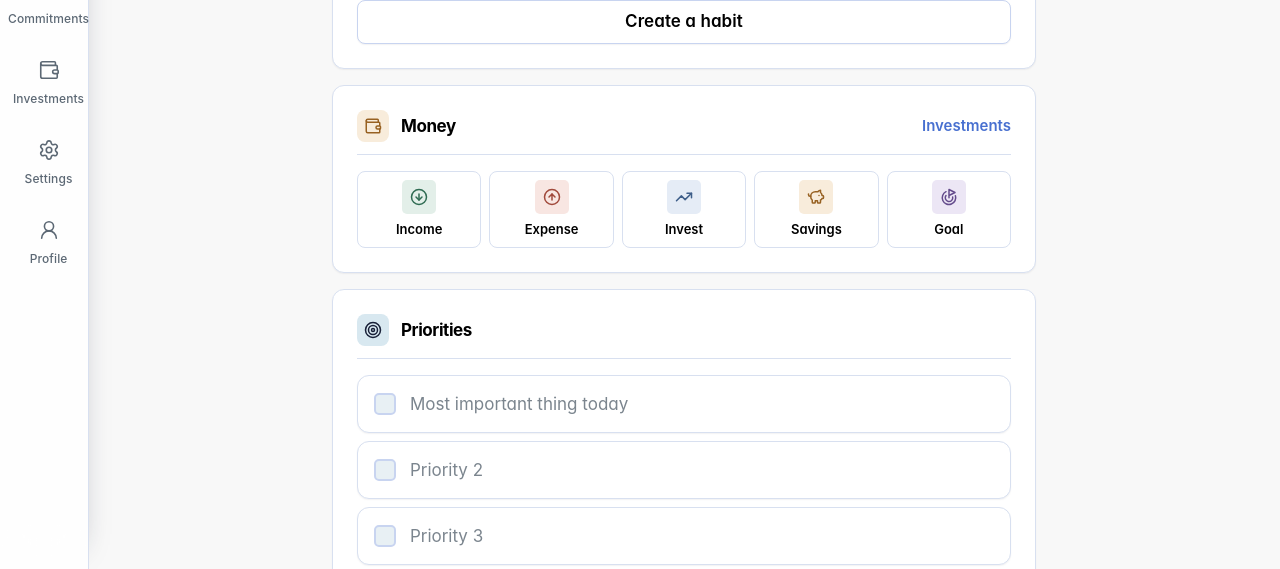
Scenario: Money across the app › shows this month’s money on Today and records income from a quick action
(page scrolled)
Click the button named "Add Income" at x=419, y=210, box [357,171,481,248]
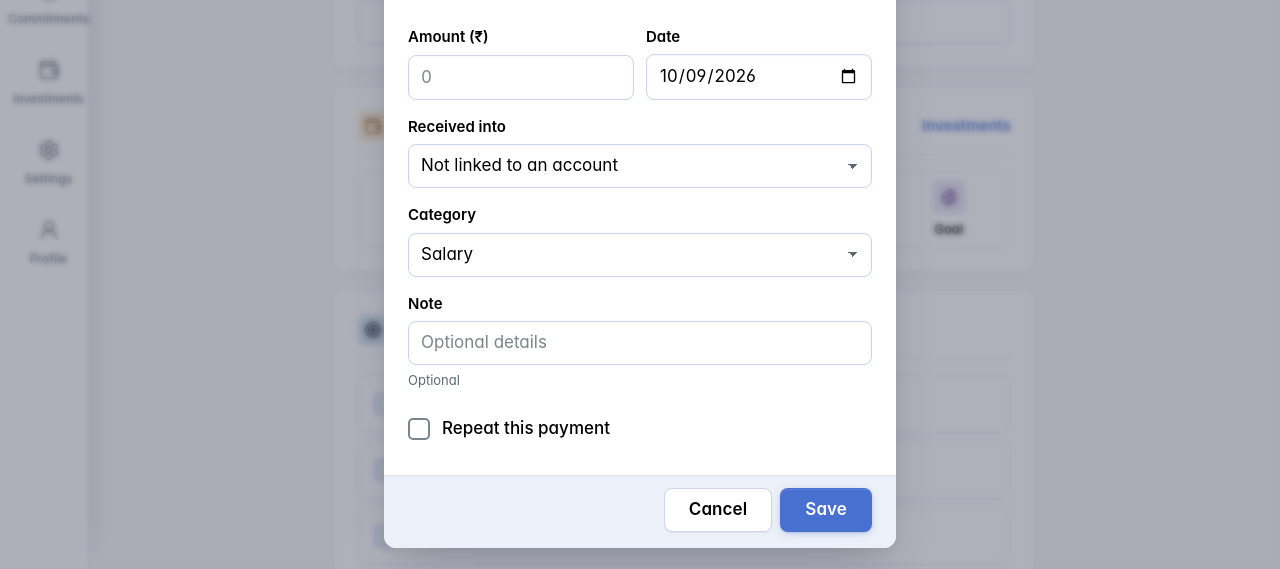
Type "50000" into the field labelled "Amount (₹)" at x=521, y=77, box [408,55,634,100]
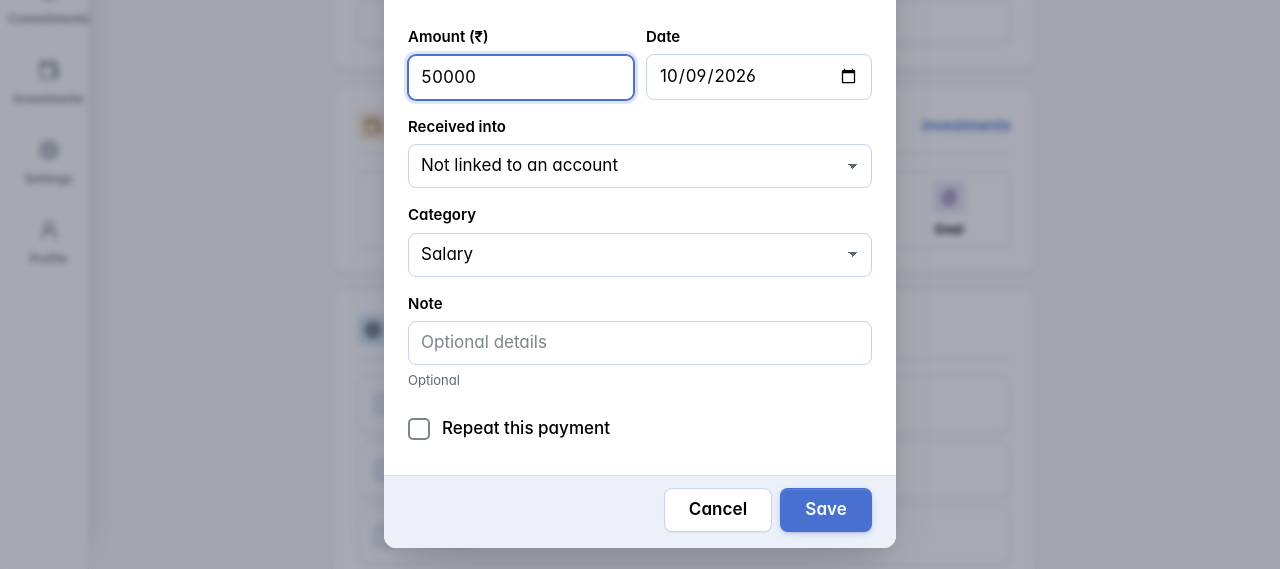
Click the button "Save" at x=826, y=510, box [780,488,872,532]
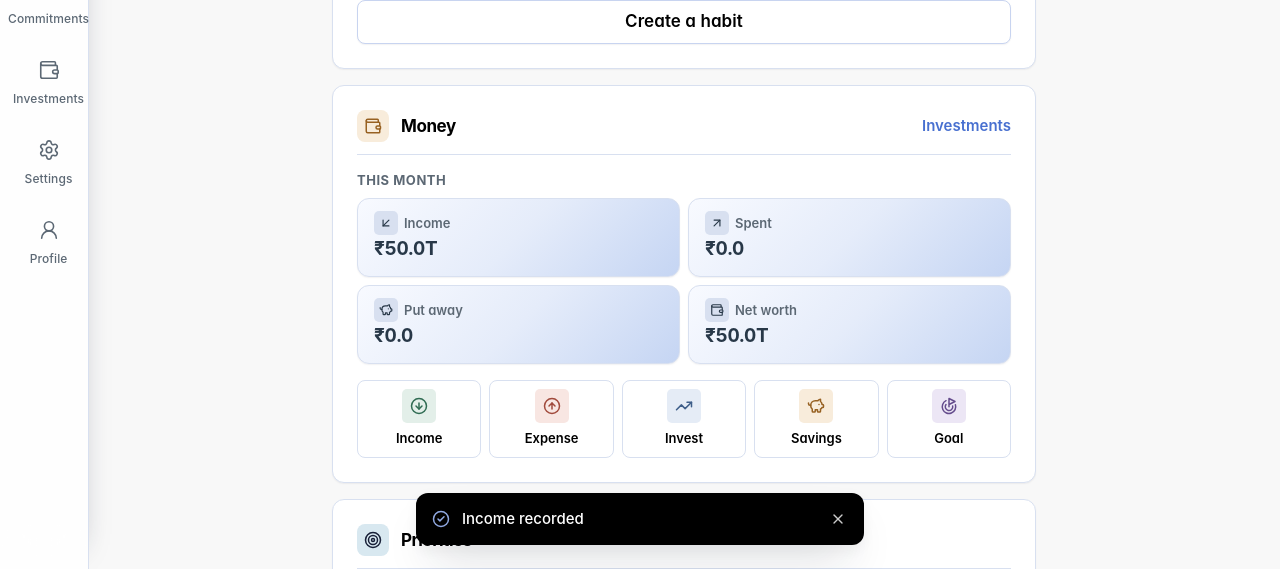
expect the text "Income recorded" is shown: met, box [462,509,584,528]
